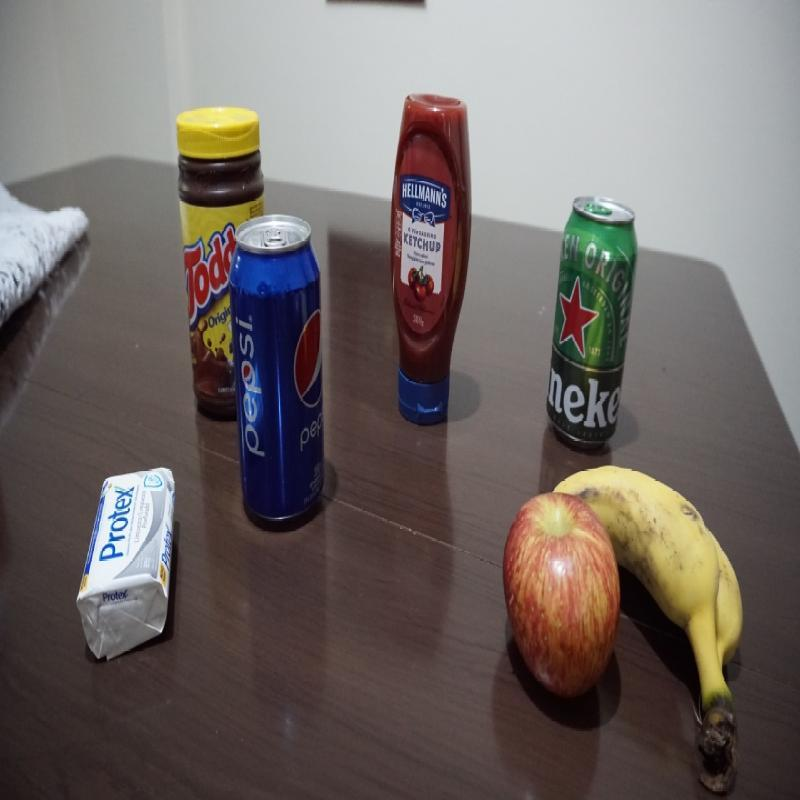Apple: (506, 492, 623, 696)
Banana: (625, 467, 750, 795)
Beer can: (548, 196, 635, 450)
Chocolate Powder: (177, 106, 232, 422)
Ketchup: (388, 91, 470, 426)
Soap: (78, 463, 177, 651)
Soda can: (234, 210, 326, 528)
